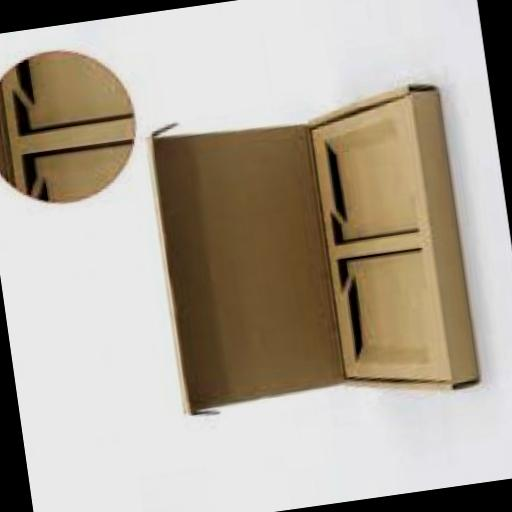cardboard: (140, 82, 483, 431)
